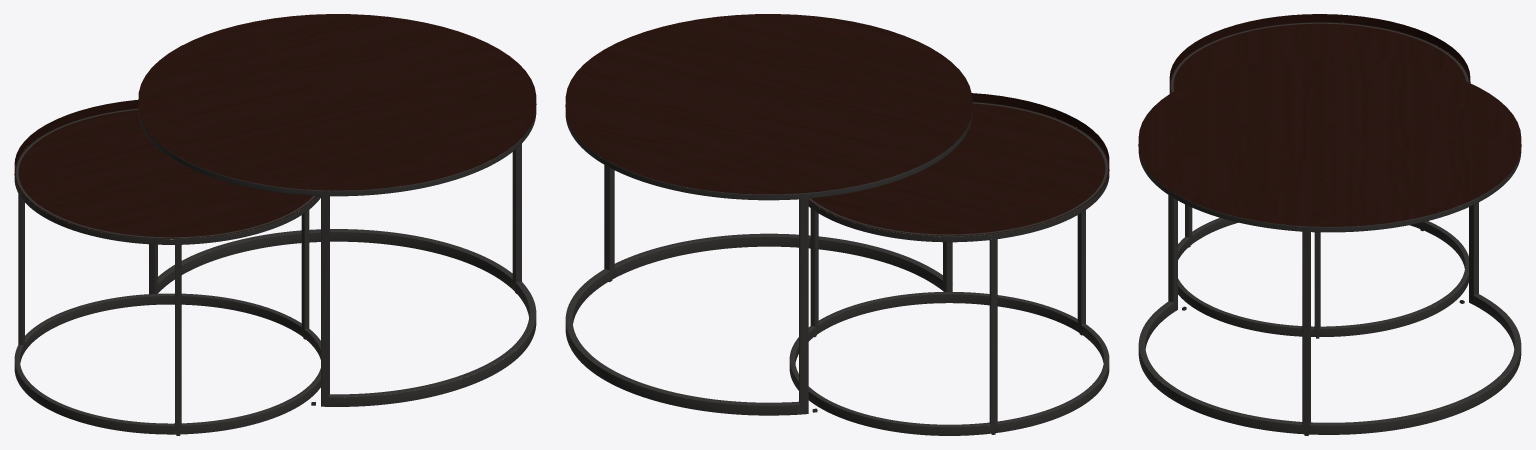
File: model-set.glb
3 views of the same model, side by side, from view 1: azimuth 30°, elevation 25°; view 2: azimuth 150°, elevation 25°; view 3: azimuth 270°, elevation 25° (orthographic). The views are drawn at different scales.
Visible parts, largest first — view 1: C-skpD418, C-skpD418.006, C-skpD418.022, C-skpD418.133, C-skpD418.002, C-skpD418.015, C-skpD418.040, C-skpD418.140, C-skpD418.165, C-skpD418.125, C-skpD418.018, C-skpD418.023 (+9 smaller); view 2: C-skpD418, C-skpD418.006, C-skpD418.042, C-skpD418.002, C-skpD418.140, C-skpD418.021, C-skpD418.134, C-skpD418.040, C-skpD418.164, C-skpD418.018, C-skpD418.125, C-skpD418.023 (+11 smaller); view 3: C-skpD418, C-skpD418.006, C-skpD418.041, C-skpD418.002, C-skpD418.119, C-skpD418.007, C-skpD418.018, C-skpD418.023, C-skpD418.022, C-skpD418.015, C-skpD418.042, C-skpD418.163 (+10 smaller).
Boxes of the visible parts, x1,y1,x2,y2 form: C-skpD418: (138,14,536,182); C-skpD418.006: (14,108,317,238); C-skpD418.022: (287,128,529,406); C-skpD418.133: (130,196,320,434); C-skpD418.002: (138,102,536,190); C-skpD418.015: (155,232,385,293); C-skpD418.040: (385,149,529,317); C-skpD418.140: (14,177,130,431); C-skpD418.165: (25,295,210,350); C-skpD418.125: (210,213,320,359); C-skpD418.018: (158,229,512,283); C-skpD418.023: (329,281,536,397); C-skpD418: (565,14,972,185); C-skpD418.006: (808,101,1109,235); C-skpD418.042: (573,132,819,415); C-skpD418.002: (565,103,972,194); C-skpD418.140: (989,173,1109,433); C-skpD418.021: (716,236,946,291); C-skpD418.134: (910,213,1098,350); C-skpD418.040: (572,168,716,323); C-skpD418.164: (795,377,989,435); C-skpD418.018: (565,269,799,405); C-skpD418.125: (795,211,909,363); C-skpD418.023: (614,233,942,280); C-skpD418: (1138,57,1521,218); C-skpD418.006: (1169,22,1470,92); C-skpD418.041: (1196,203,1466,434); C-skpD418.002: (1138,143,1521,226); C-skpD418.119: (1213,232,1425,336); C-skpD418.007: (1213,14,1426,40); C-skpD418.018: (1310,294,1520,425); C-skpD418.023: (1139,301,1302,424); C-skpD418.022: (1138,150,1195,411); C-skpD418.015: (1469,205,1514,350); C-skpD418.042: (1466,150,1521,410); C-skpD418.163: (1320,221,1468,328).
Bounding box in the file's own units: 0.9725 × 0.44 × 0.7.
Materials: 2 (1 with a texture image).
